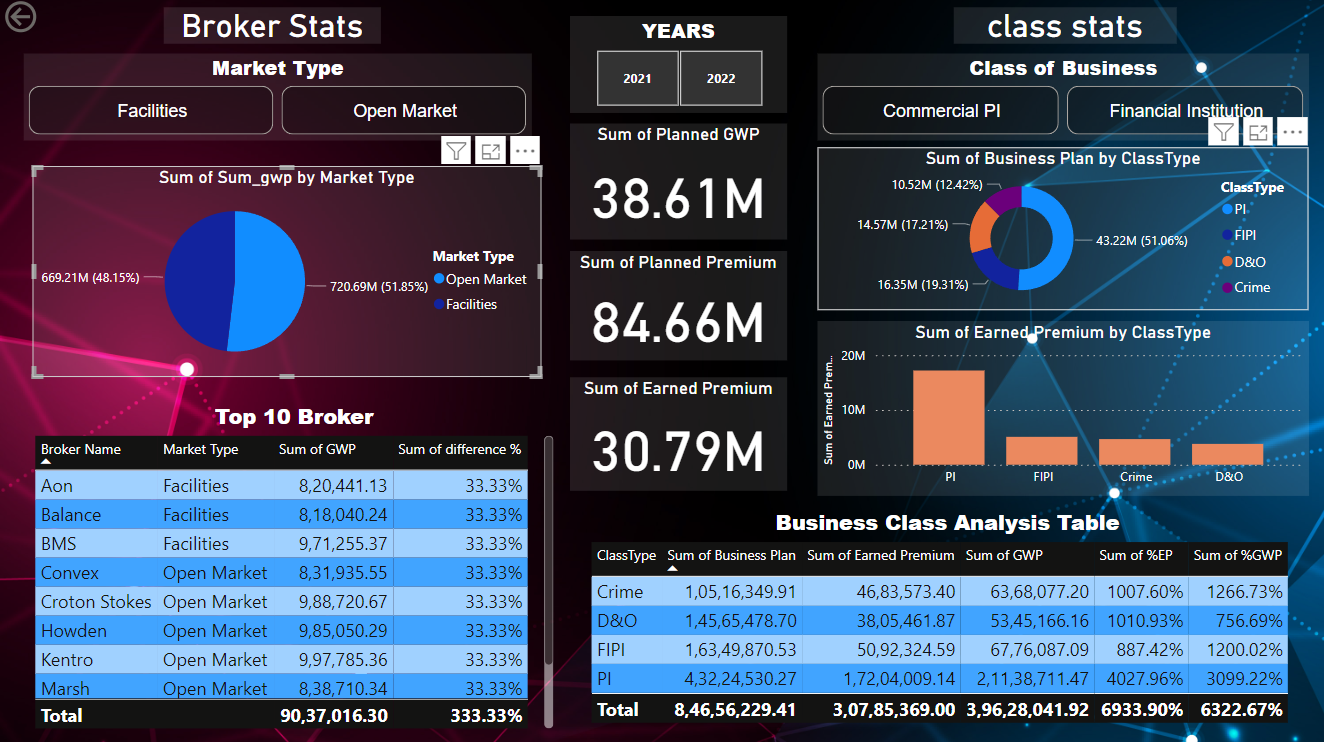

The page's visual inventory and layout, read from the dashboard file:
{"tool":"powerbi","page":{"name":"Broker Stats","canvas":[1280,720],"ordinal":0},"visuals":[{"type":"tableEx","title":" Top 10 Broker","fields":{"Values":["Broker stats.Broker Name","Broker stats.Market Type","Sum(Broker stats.GWP)","Sum(Broker stats.difference %)"]},"box":[13.3,390.9,526,320.9],"z":0},{"type":"actionButton","box":[0,0,100,40],"z":1000},{"type":"card","title":"Sum of Planned GWP","fields":{"Values":["Sum(Broker stats.Planned GWP)"]},"box":[550,123,209.5,112.2],"z":2000},{"type":"card","title":"Sum of Earned Premium","fields":{"Values":["Sum(Class stats.Earned Premium)"]},"box":[550,367.6,209.5,109.5],"z":3000},{"type":"card","title":"Sum of Planned Premium","fields":{"Values":["Sum(Class stats.Business Plan)"]},"box":[550,245.9,209.5,105.4],"z":4000},{"type":"advancedSlicerVisual","fields":{"Values":["Broker stats.Market Type"]},"box":[23,55.4,490.5,83.8],"z":5000},{"type":"advancedSlicerVisual","fields":{"Values":["Class stats.Class of Business"]},"box":[789.2,55.4,474.3,83.8],"z":6000},{"type":"textbox","title":"Broker Stats","box":[158.1,10.8,209.5,35.1],"z":7000},{"type":"textbox","title":"class stats","box":[920.3,10.8,214.9,35.1],"z":8000},{"type":"tableEx","title":"Business Class Analysis Table","fields":{"Values":["Class stats.ClassType","Sum(Class stats.Business Plan)","Sum(Class stats.Earned Premium)","Sum(Class stats.GWP )","Sum(Class stats.Per_EP)","Sum(Class stats.%GWP)"]},"box":[550,493.2,713.5,218.9],"z":9000},{"type":"slicer","title":"YEARS","fields":{"Values":["Class stats.Year"]},"box":[550,18.9,209.5,93.2],"z":10000},{"type":"pieChart","fields":{"Category":["Broker stats.Market Type"],"Y":["Sum(Broker stats.Sum_gwp)"]},"box":[23,163.5,490.5,204.1],"z":11000},{"type":"donutChart","fields":{"Category":["Class stats.ClassType"],"Y":["Sum(Class stats.Business Plan)"]},"box":[789.2,145.9,474.3,156.8],"z":12000},{"type":"lineClusteredColumnComboChart","fields":{"Y":["Sum(Class stats.Earned Premium)"],"Category":["Class stats.ClassType"]},"box":[789.2,313.5,474.3,168.9],"z":13000}]}

Visuals, with their boxes in screenshot pixels (x1, y1, x2, y2), scaled from the page's 1280x720 canvas onto the 1324x742 screenshot:
" Top 10 Broker" tableEx: select_region(14, 403, 558, 734)
actionButton: select_region(0, 0, 103, 41)
"Sum of Planned GWP" card: select_region(569, 127, 786, 242)
"Sum of Earned Premium" card: select_region(569, 379, 786, 492)
"Sum of Planned Premium" card: select_region(569, 253, 786, 362)
advancedSlicerVisual - Broker stats.Market Type: select_region(24, 57, 531, 143)
advancedSlicerVisual - Class stats.Class of Business: select_region(816, 57, 1307, 143)
"Broker Stats" textbox: select_region(164, 11, 380, 47)
"class stats" textbox: select_region(952, 11, 1174, 47)
"Business Class Analysis Table" tableEx: select_region(569, 508, 1307, 734)
"YEARS" slicer: select_region(569, 19, 786, 116)
pieChart - Broker stats.Market Type x Sum(Broker stats.Sum_gwp): select_region(24, 168, 531, 379)
donutChart - Class stats.ClassType x Sum(Class stats.Business Plan): select_region(816, 150, 1307, 312)
lineClusteredColumnComboChart - Sum(Class stats.Earned Premium) x Class stats.ClassType: select_region(816, 323, 1307, 497)
